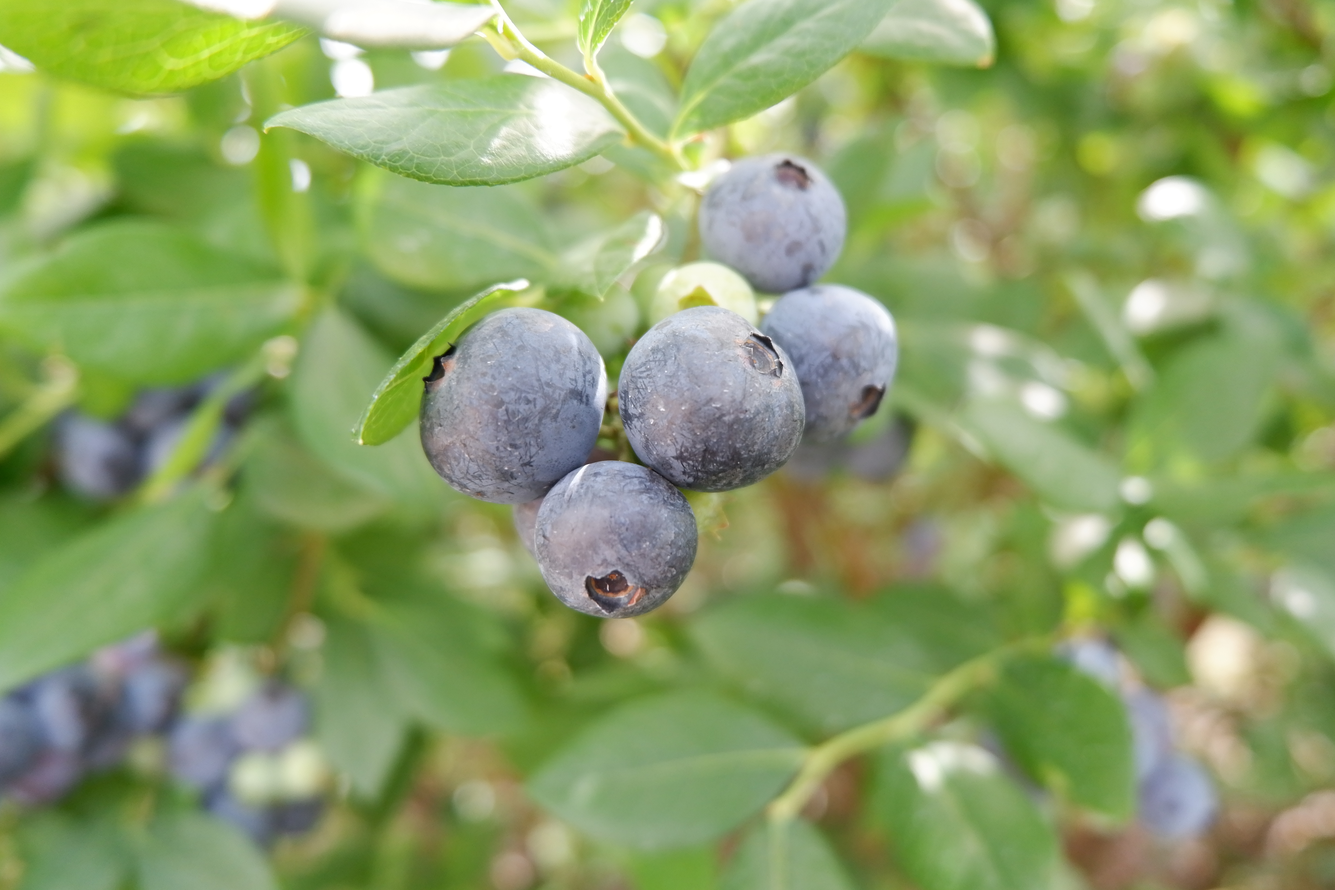Immature: (557, 280, 640, 362), (650, 263, 754, 324), (629, 263, 676, 338), (678, 486, 737, 542)
Mature: (422, 310, 603, 501), (619, 307, 804, 488), (534, 463, 694, 616), (762, 287, 894, 440), (701, 156, 846, 291), (515, 494, 543, 557)
